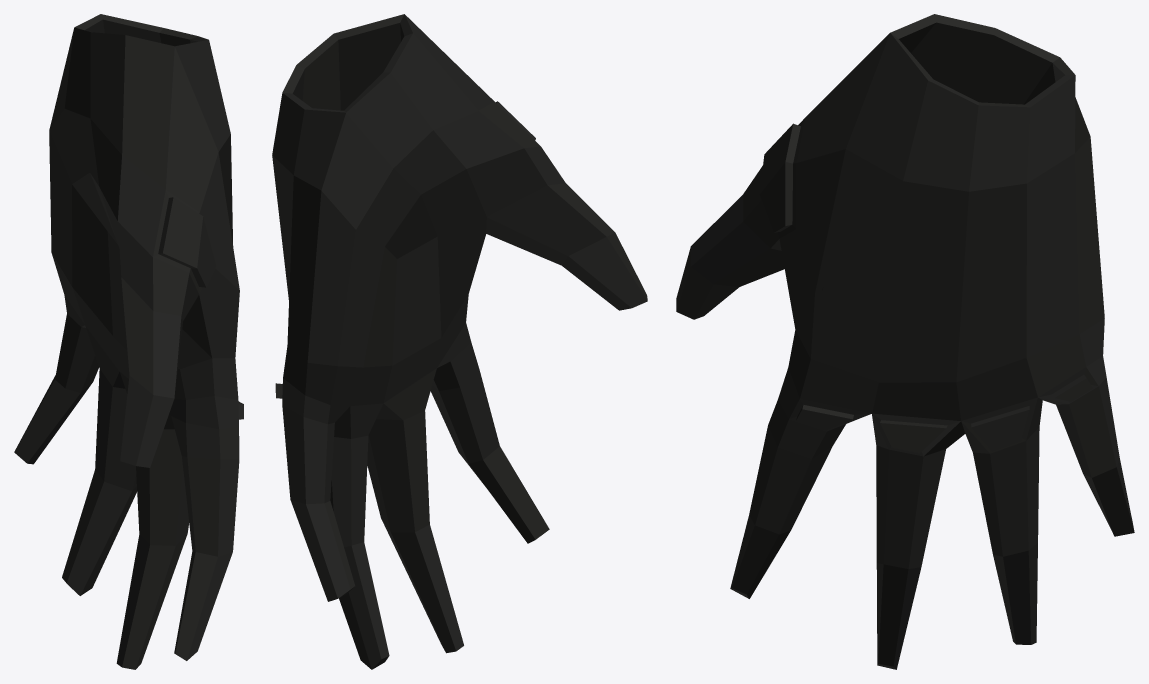
Rendered from GauntletLeft_01.fbx.
The picture shows the model from 3 angles, left to right: view 1: azimuth 30°, elevation 25°; view 2: azimuth 150°, elevation 25°; view 3: azimuth 270°, elevation 25°; orthographic projection. The views are drawn at different scales.
Visible parts, largest first — view 1: GauntletLeft_01; view 2: GauntletLeft_01; view 3: GauntletLeft_01.
Boxes of the visible parts, <box> form: GauntletLeft_01: <box>14,14,243,669</box>; GauntletLeft_01: <box>272,14,647,669</box>; GauntletLeft_01: <box>676,14,1134,669</box>.
Bounding box in the file's own units: 7.58 × 20.21 × 12.65.
